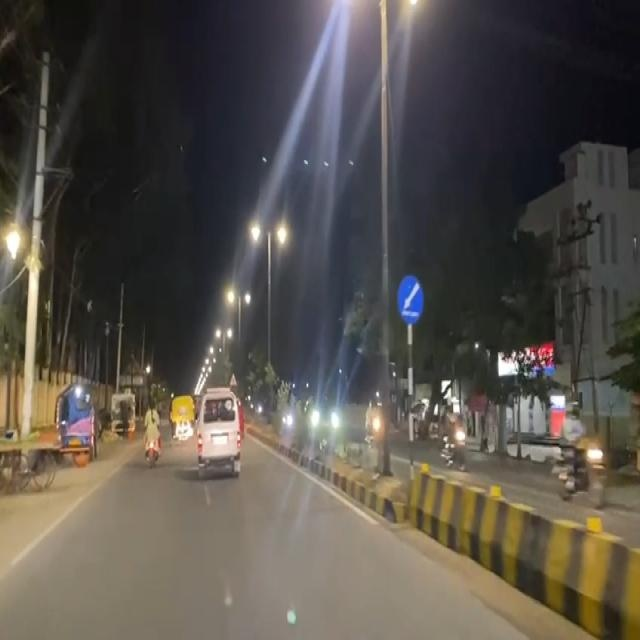bien_hieu_lenh: (396, 273, 424, 328)
